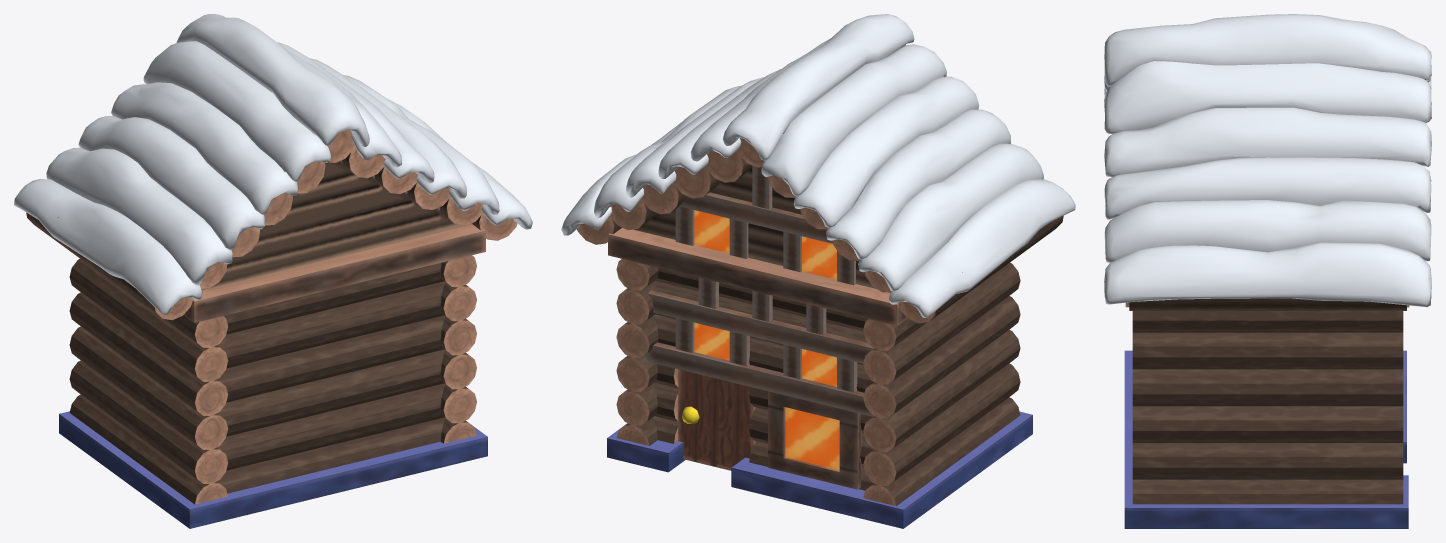
Rendered from cabin_5.glb.
The picture shows the model from 3 angles, left to right: view 1: azimuth 30°, elevation 25°; view 2: azimuth 150°, elevation 25°; view 3: azimuth 270°, elevation 25°; orthographic projection. The views are drawn at different scales.
Visible parts, largest first — view 1: Snow, Wall Back.007, Wall Back.008, Wall Right.005, Top of House.004, Wall Right.006, Base.004, Plank.031, Roof.004, Wall Left.006, Wall Left.005; view 2: Snow, Wall Right.005, Wall Right.006, Base.004, Plank.031, Roof.004, Door, Wall Back.009, Plank.046, Plank.039, Window Frame.003, Wall Front.003 (+17 smaller); view 3: Snow, Wall Left.005, Wall Left.006, Base.004, Roof.004.
Part boxes in pixels (left/top/right/bottom): Snow: left=14, top=14, right=532, bottom=314; Wall Back.007: left=217, top=349, right=445, bottom=493; Wall Back.008: left=217, top=263, right=445, bottom=402; Wall Right.005: left=69, top=326, right=228, bottom=504; Top of House.004: left=201, top=160, right=472, bottom=290; Wall Right.006: left=69, top=259, right=228, bottom=415; Base.004: left=59, top=411, right=487, bottom=528; Plank.031: left=184, top=224, right=485, bottom=322; Roof.004: left=26, top=129, right=517, bottom=320; Wall Left.006: left=440, top=255, right=476, bottom=355; Wall Left.005: left=440, top=350, right=476, bottom=443; Snow: left=561, top=14, right=1075, bottom=317; Wall Right.005: left=863, top=329, right=1020, bottom=506; Wall Right.006: left=863, top=262, right=1020, bottom=418; Base.004: left=607, top=411, right=1032, bottom=528; Plank.031: left=608, top=227, right=907, bottom=325; Roof.004: left=577, top=138, right=1063, bottom=323; Door: left=678, top=369, right=756, bottom=470; Wall Back.009: left=654, top=267, right=873, bottom=392; Plank.046: left=648, top=290, right=873, bottom=363; Plank.039: left=643, top=342, right=873, bottom=416; Window Frame.003: left=768, top=391, right=862, bottom=489; Wall Front.003: left=653, top=364, right=873, bottom=490; Snow: left=1104, top=14, right=1431, bottom=307; Wall Left.005: left=1132, top=406, right=1403, bottom=504; Wall Left.006: left=1132, top=311, right=1403, bottom=406; Base.004: left=1124, top=350, right=1408, bottom=528; Roof.004: left=1129, top=298, right=1406, bottom=310.
Bounding box in the file's own units: 6.92 × 7.05 × 4.85.
10 materials, 9 textured.
